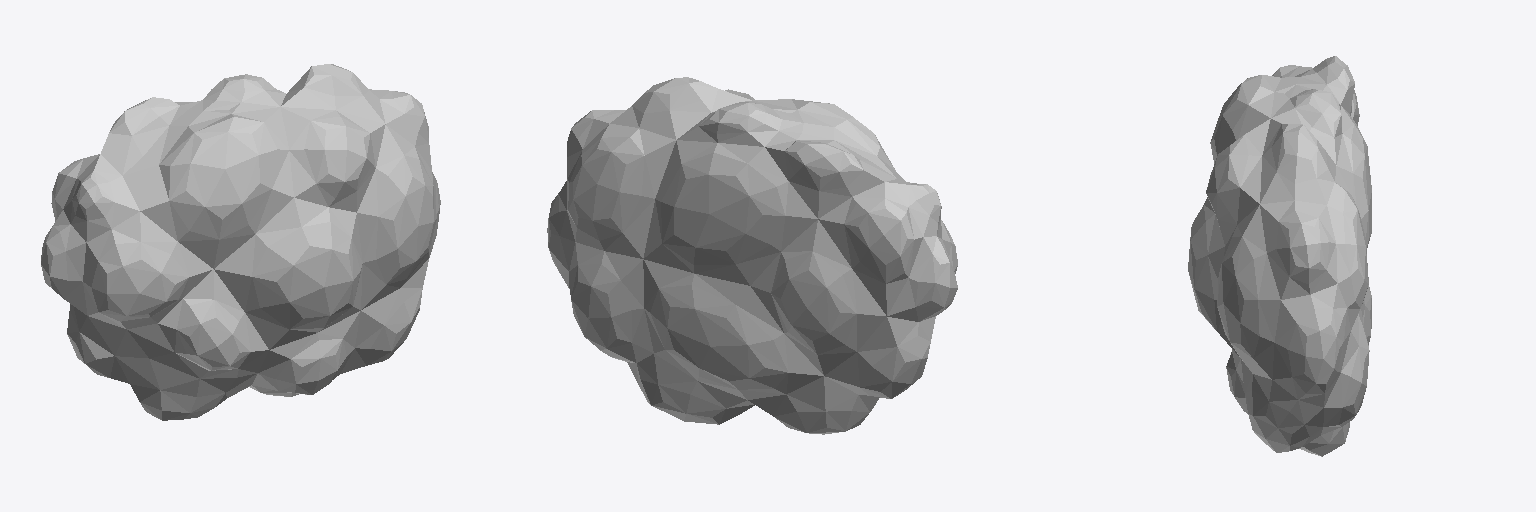
Rendered from cloud2.obj.
The picture shows the model from 3 angles: view 1: azimuth 30°, elevation 25°; view 2: azimuth 150°, elevation 25°; view 3: azimuth 270°, elevation 25°; orthographic projection.
Parts seen in each view (by area): view 1: n0b0; view 2: n0b0; view 3: n0b0.
Part boxes in pixels (x1,y1,x2,y2): n0b0: (41, 64, 440, 420); n0b0: (547, 77, 957, 434); n0b0: (1188, 56, 1371, 456).
Size of the model in its own units: 287 by 228 by 115.